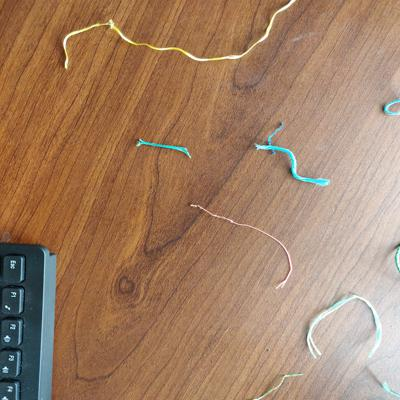thread: (59, 1, 303, 73), (186, 197, 295, 294), (302, 291, 386, 361), (250, 142, 335, 188), (249, 368, 308, 400), (135, 137, 194, 164), (266, 120, 288, 157), (379, 96, 400, 119), (391, 242, 400, 277)
